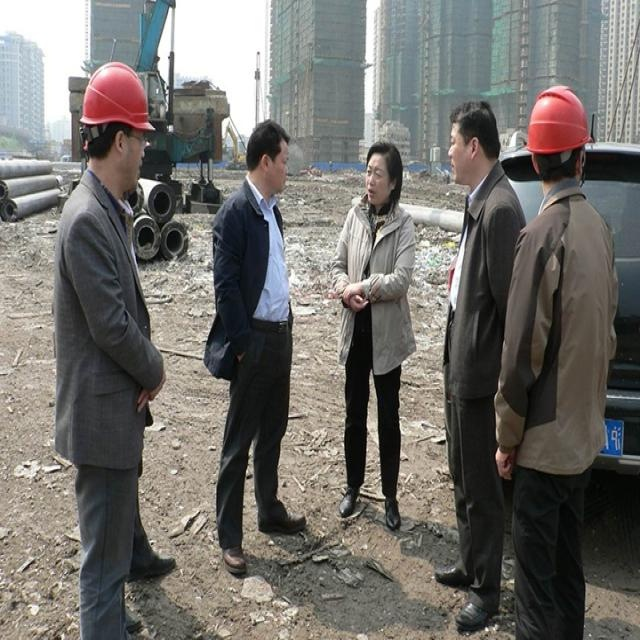Con_Casco: (79, 61, 153, 180), (525, 84, 589, 195)
Sin_Casco_Mascarrilla: (448, 102, 500, 185)
Sin_Chaleco: (503, 209, 616, 474), (213, 193, 292, 327), (339, 201, 413, 344)
